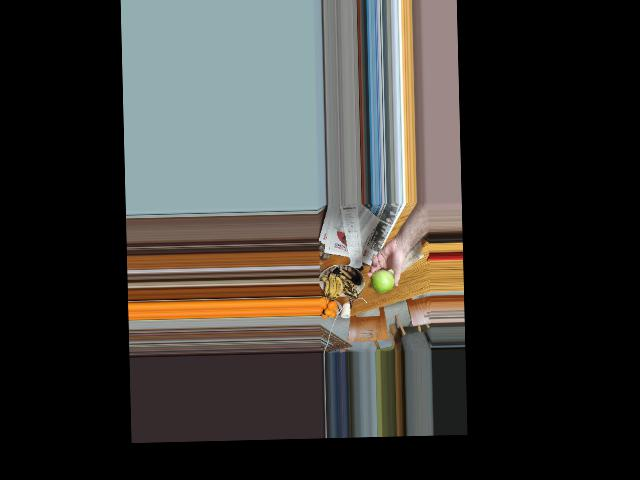apple: (368, 266, 394, 294)
